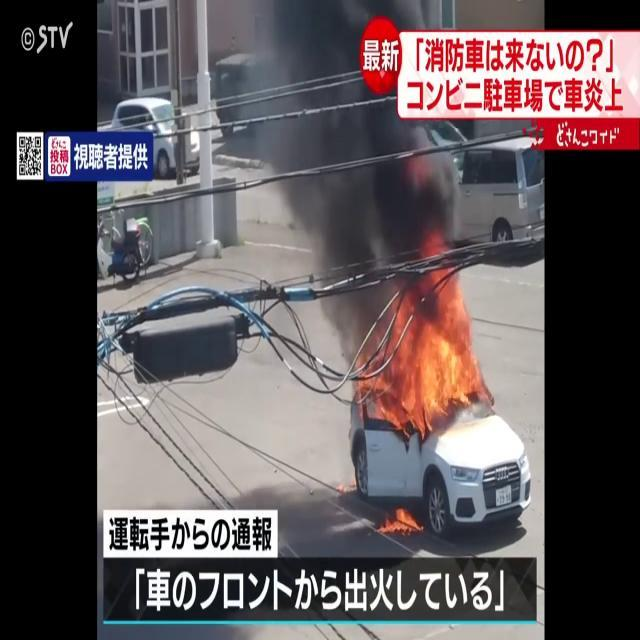Fire: (360, 256, 488, 430), (379, 501, 421, 536)
Smoke: (242, 1, 454, 315)
